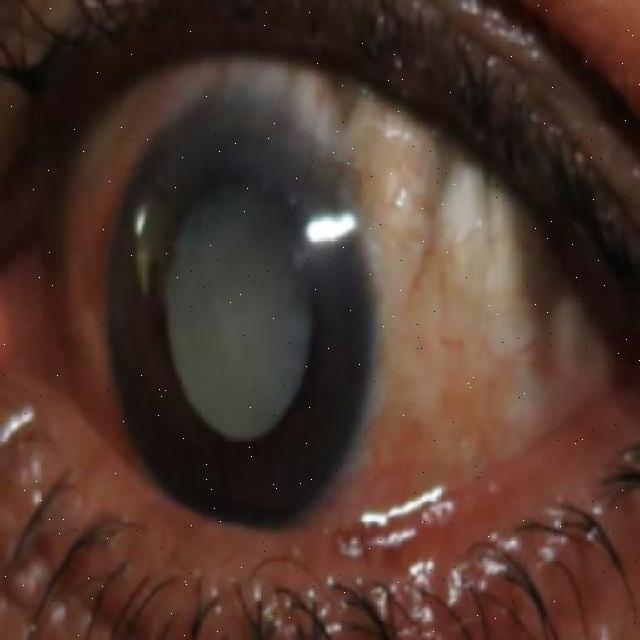Cataract: (98, 98, 378, 543)
